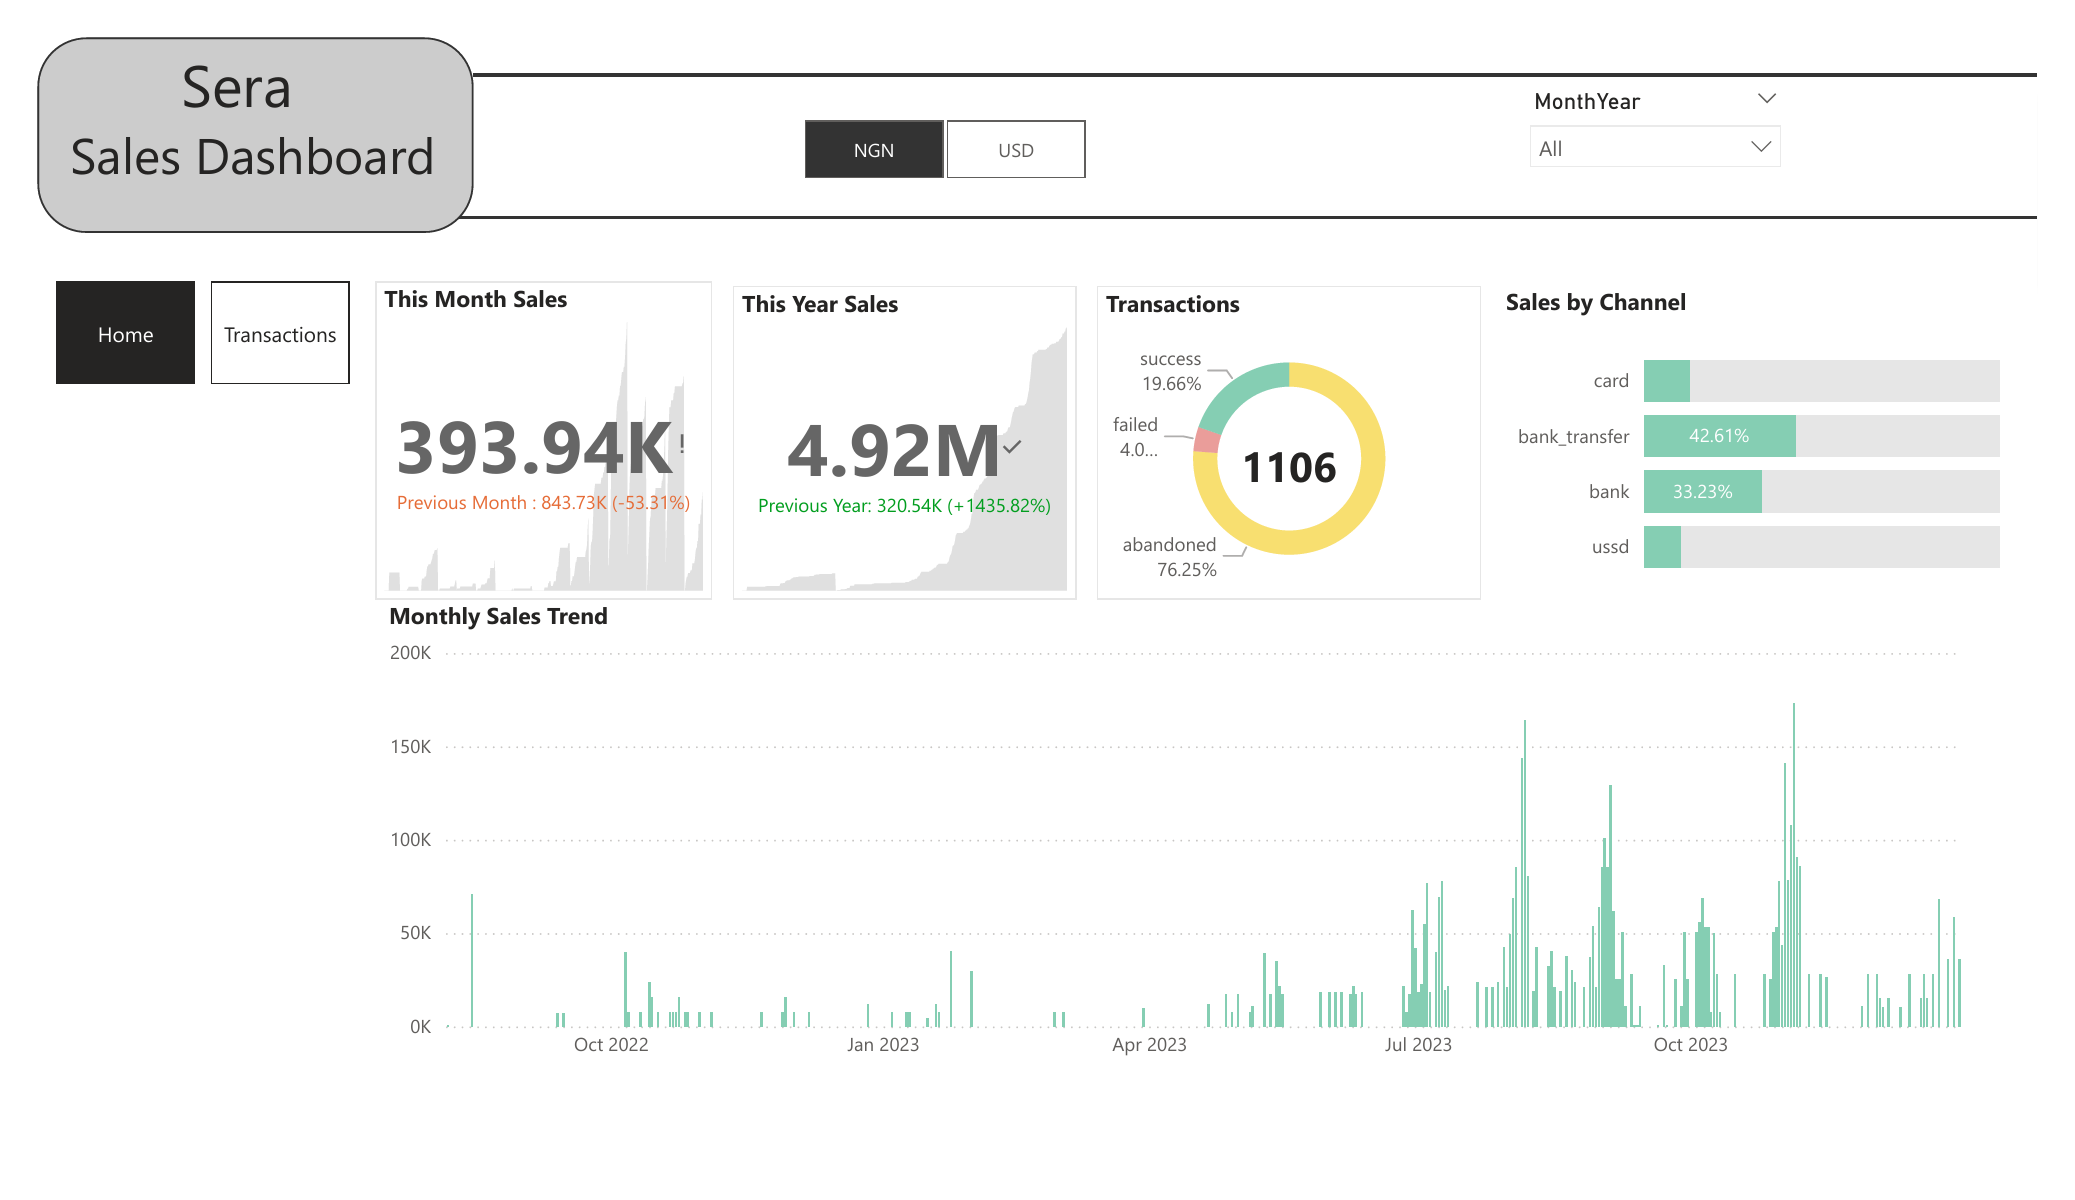

Layout of this report page (visuals, bound fields, positions):
{"tool":"powerbi","page":{"name":"Home ","canvas":[1280,720],"ordinal":0},"visuals":[{"type":"shape","box":[0,0,279.4,125.3],"z":0,"group":"g1"},{"type":"pageNavigator","box":[11.8,155.8,189.6,66.1],"z":0},{"type":"donutChart","title":"Transactions","fields":{"Y":["Sum(sera.amount)"],"Series":["sera.status"]},"box":[678.4,158.7,246.2,201],"z":0,"group":"g2"},{"type":"textbox","box":[86.7,0,99.9,82.3],"z":1000,"group":"g1"},{"type":"slicer","fields":{"Values":["sera.currency"]},"box":[464.8,46.5,230.6,50.1],"z":1000},{"type":"card","fields":{"Values":["measures__.total_transactions"]},"box":[762.6,251.6,79.2,47.3],"z":1000,"group":"g2"},{"type":"slicer","fields":{"Values":["date_table.MonthYear"]},"box":[944.8,27.9,180.7,85.2],"z":2000},{"type":"textbox","box":[16.1,48.3,280.7,67.9],"z":2000,"group":"g1"},{"type":"hundredPercentStackedBarChart","title":"Sales by Channel","fields":{"Category":["sera.channel"],"Series":["sera.status"],"Y":["Sum(sera.amount)"]},"box":[934.5,158.7,326.2,201.3],"z":3000},{"type":"group","id":"g1","title":"Title ","box":[0,0,296.8,125.3],"z":4000},{"type":"shape","box":[269.9,91.2,1010.1,48.3],"z":5000},{"type":"shape","box":[278.9,0,1001.1,48.3],"z":6000},{"type":"kpi","title":"This Year Sales ","fields":{"TrendLine":["date_table.Date"],"Indicator":["measures__.sales(current_year)"],"Goal":["measures__.sales(previous_year)"]},"box":[445,158.7,220.4,201.3],"z":7000},{"type":"kpi","title":"This Month Sales ","fields":{"TrendLine":["date_table.Date"],"Indicator":["measures__.sales(current_month)"],"Goal":["measures__.sales(previous_month)"]},"box":[216,155.8,216,204.2],"z":8000},{"type":"group","id":"g2","title":"Pie + Total transaction","box":[678.4,158.7,246.2,201],"z":9000},{"type":"clusteredColumnChart","title":"Monthly Sales Trend ","fields":{"Y":["measures__.sales"],"Category":["date_table.Date"]},"box":[220.4,360,1040.3,302.7],"z":10000}]}

Visuals, with their boxes on the page's 1280x720 design canvas (x1, y1, x2, y2). These are canvas units, not pixel positions in the 2075x1200 screenshot, which may show the page scaled, cropped or inside an application window:
shape: l=0, t=0, r=279, b=125
pageNavigator: l=12, t=156, r=201, b=222
"Transactions" donutChart: l=678, t=159, r=925, b=360
textbox: l=87, t=0, r=187, b=82
slicer - sera.currency: l=465, t=46, r=695, b=97
card - measures__.total_transactions: l=763, t=252, r=842, b=299
slicer - date_table.MonthYear: l=945, t=28, r=1126, b=113
textbox: l=16, t=48, r=297, b=116
"Sales by Channel" hundredPercentStackedBarChart: l=934, t=159, r=1261, b=360
"Title " group: l=0, t=0, r=297, b=125
shape: l=270, t=91, r=1280, b=140
shape: l=279, t=0, r=1280, b=48
"This Year Sales " kpi: l=445, t=159, r=665, b=360
"This Month Sales " kpi: l=216, t=156, r=432, b=360
"Pie + Total transaction" group: l=678, t=159, r=925, b=360
"Monthly Sales Trend " clusteredColumnChart: l=220, t=360, r=1261, b=663
